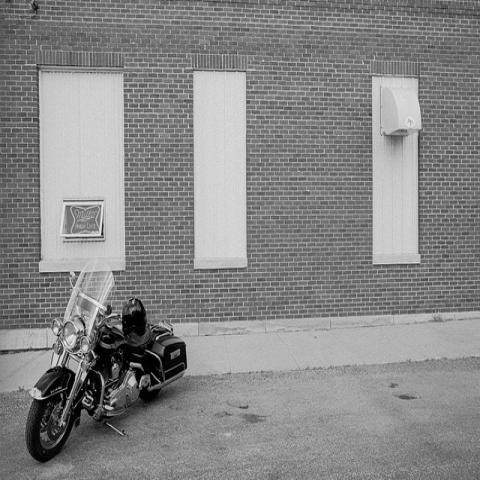motorcycle: (25, 255, 188, 462)
